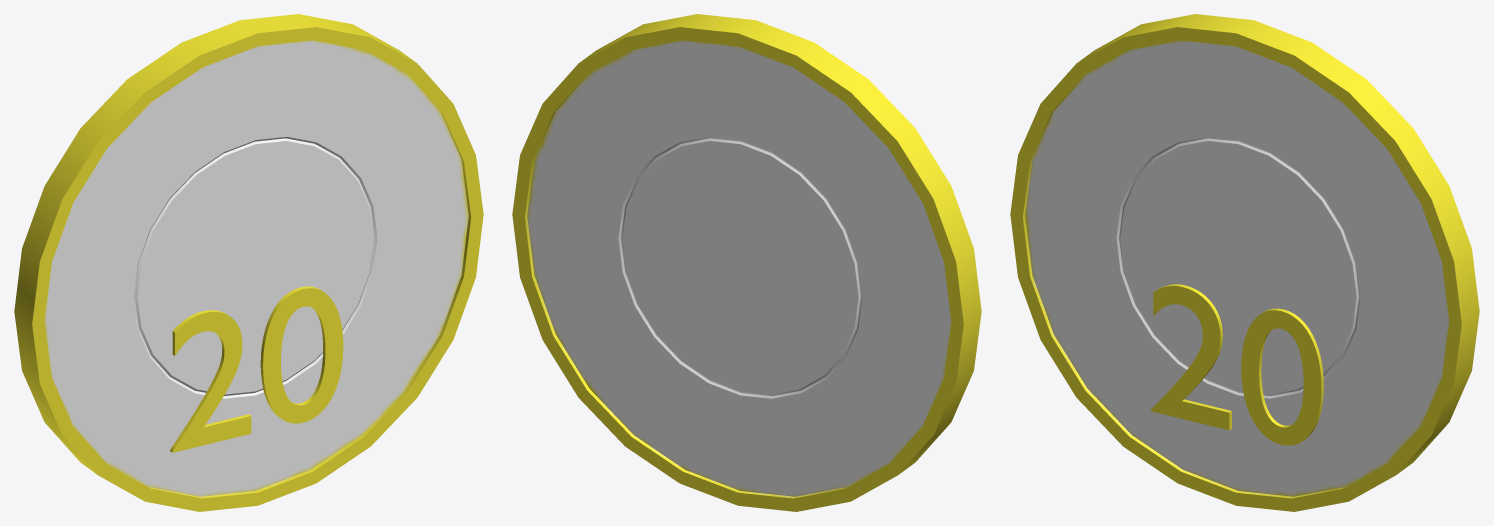
File: coin.fbx
3 views of the same model, side by side, from view 1: azimuth 30°, elevation 25°; view 2: azimuth 150°, elevation 25°; view 3: azimuth 330°, elevation 25° (orthographic).
Parts seen in each view (by area): view 1: Cylinder; view 2: Cylinder; view 3: Cylinder.
Boxes of the visible parts, box(x1,y1,x2,y2) form: Cylinder: box(14, 14, 483, 511); Cylinder: box(512, 14, 981, 511); Cylinder: box(1010, 14, 1479, 511).
Size of the model in its own units: 132 by 132 by 9.05.
